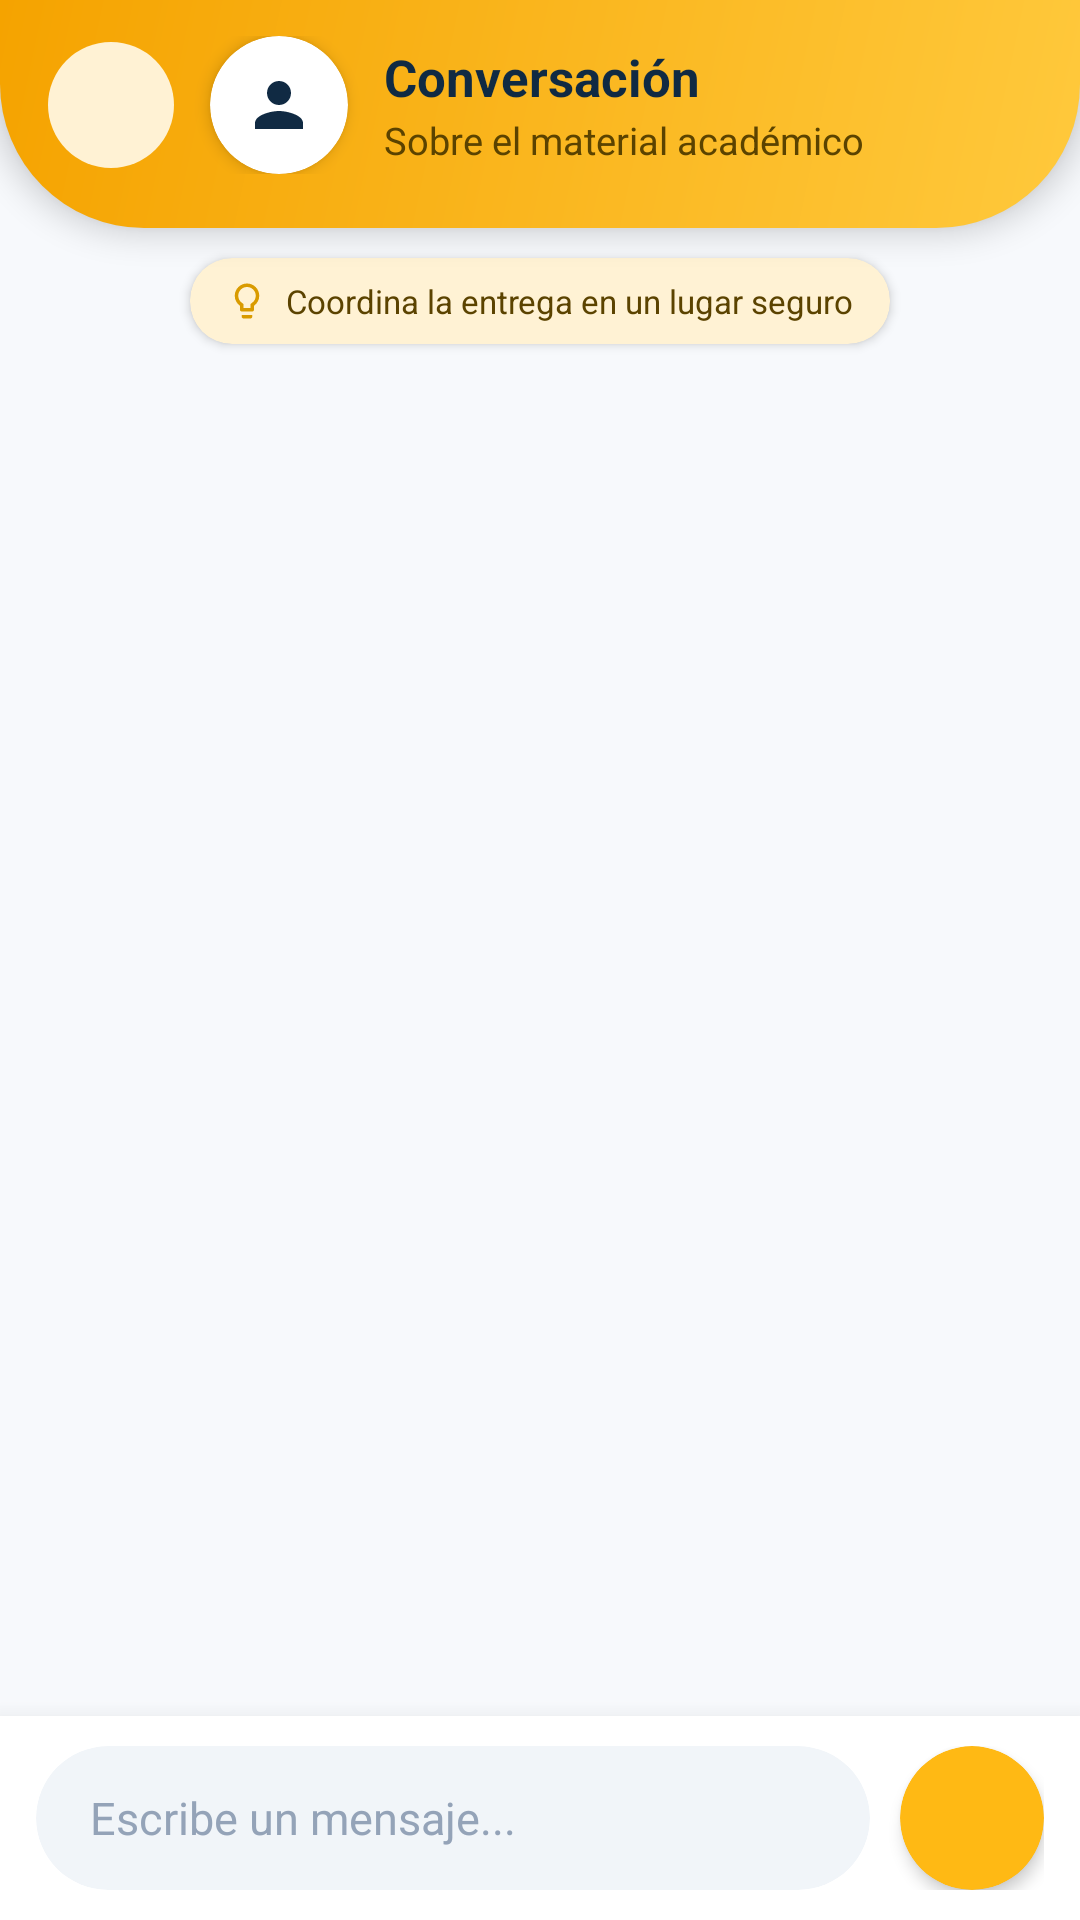

Icon click points for this 1080x1920 phone screenshot, format point (x, y):
Consejo: point (247, 301)
Contacto: point (279, 105)
